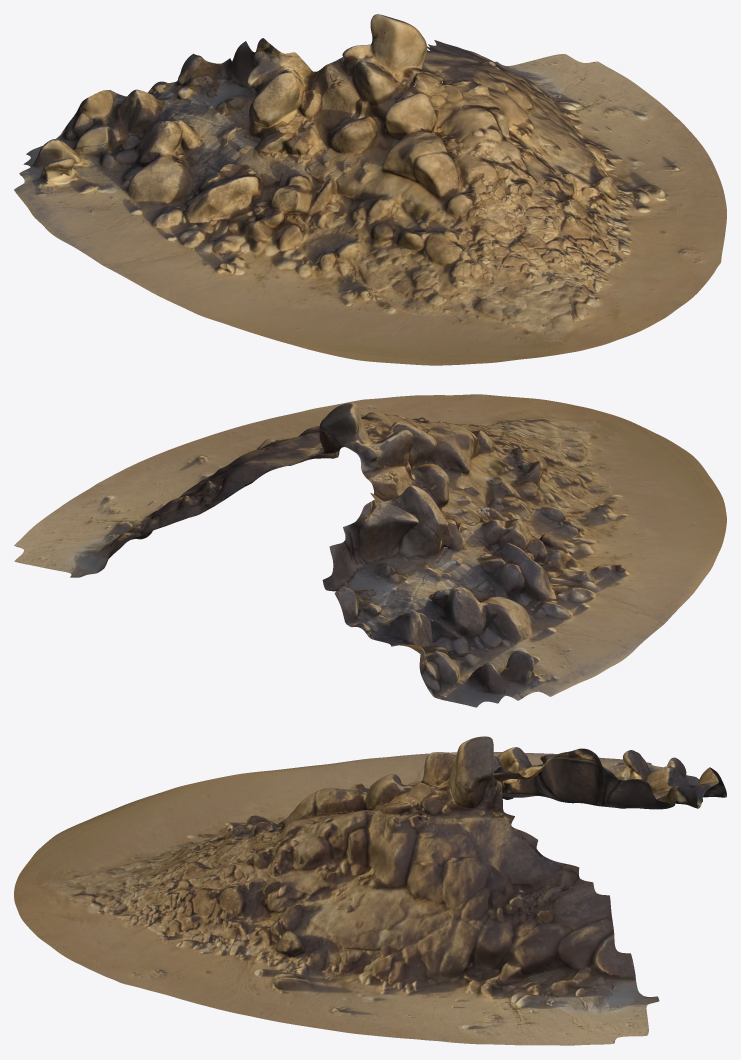
Rendered from Rocks.fbx.
The picture shows the model from 3 angles, top to bottom: view 1: azimuth 30°, elevation 25°; view 2: azimuth 150°, elevation 25°; view 3: azimuth 270°, elevation 25°; orthographic projection. The views are drawn at different scales.
Visible parts, largest first — view 1: rock.001; view 2: rock.001; view 3: rock.001.
Boxes of the visible parts, left/top/right/bottom form: rock.001: left=14, top=14, right=726, bottom=365; rock.001: left=14, top=394, right=726, bottom=707; rock.001: left=14, top=736, right=726, bottom=1045.
Bounding box in the file's own units: 1203 × 326 × 1226.
